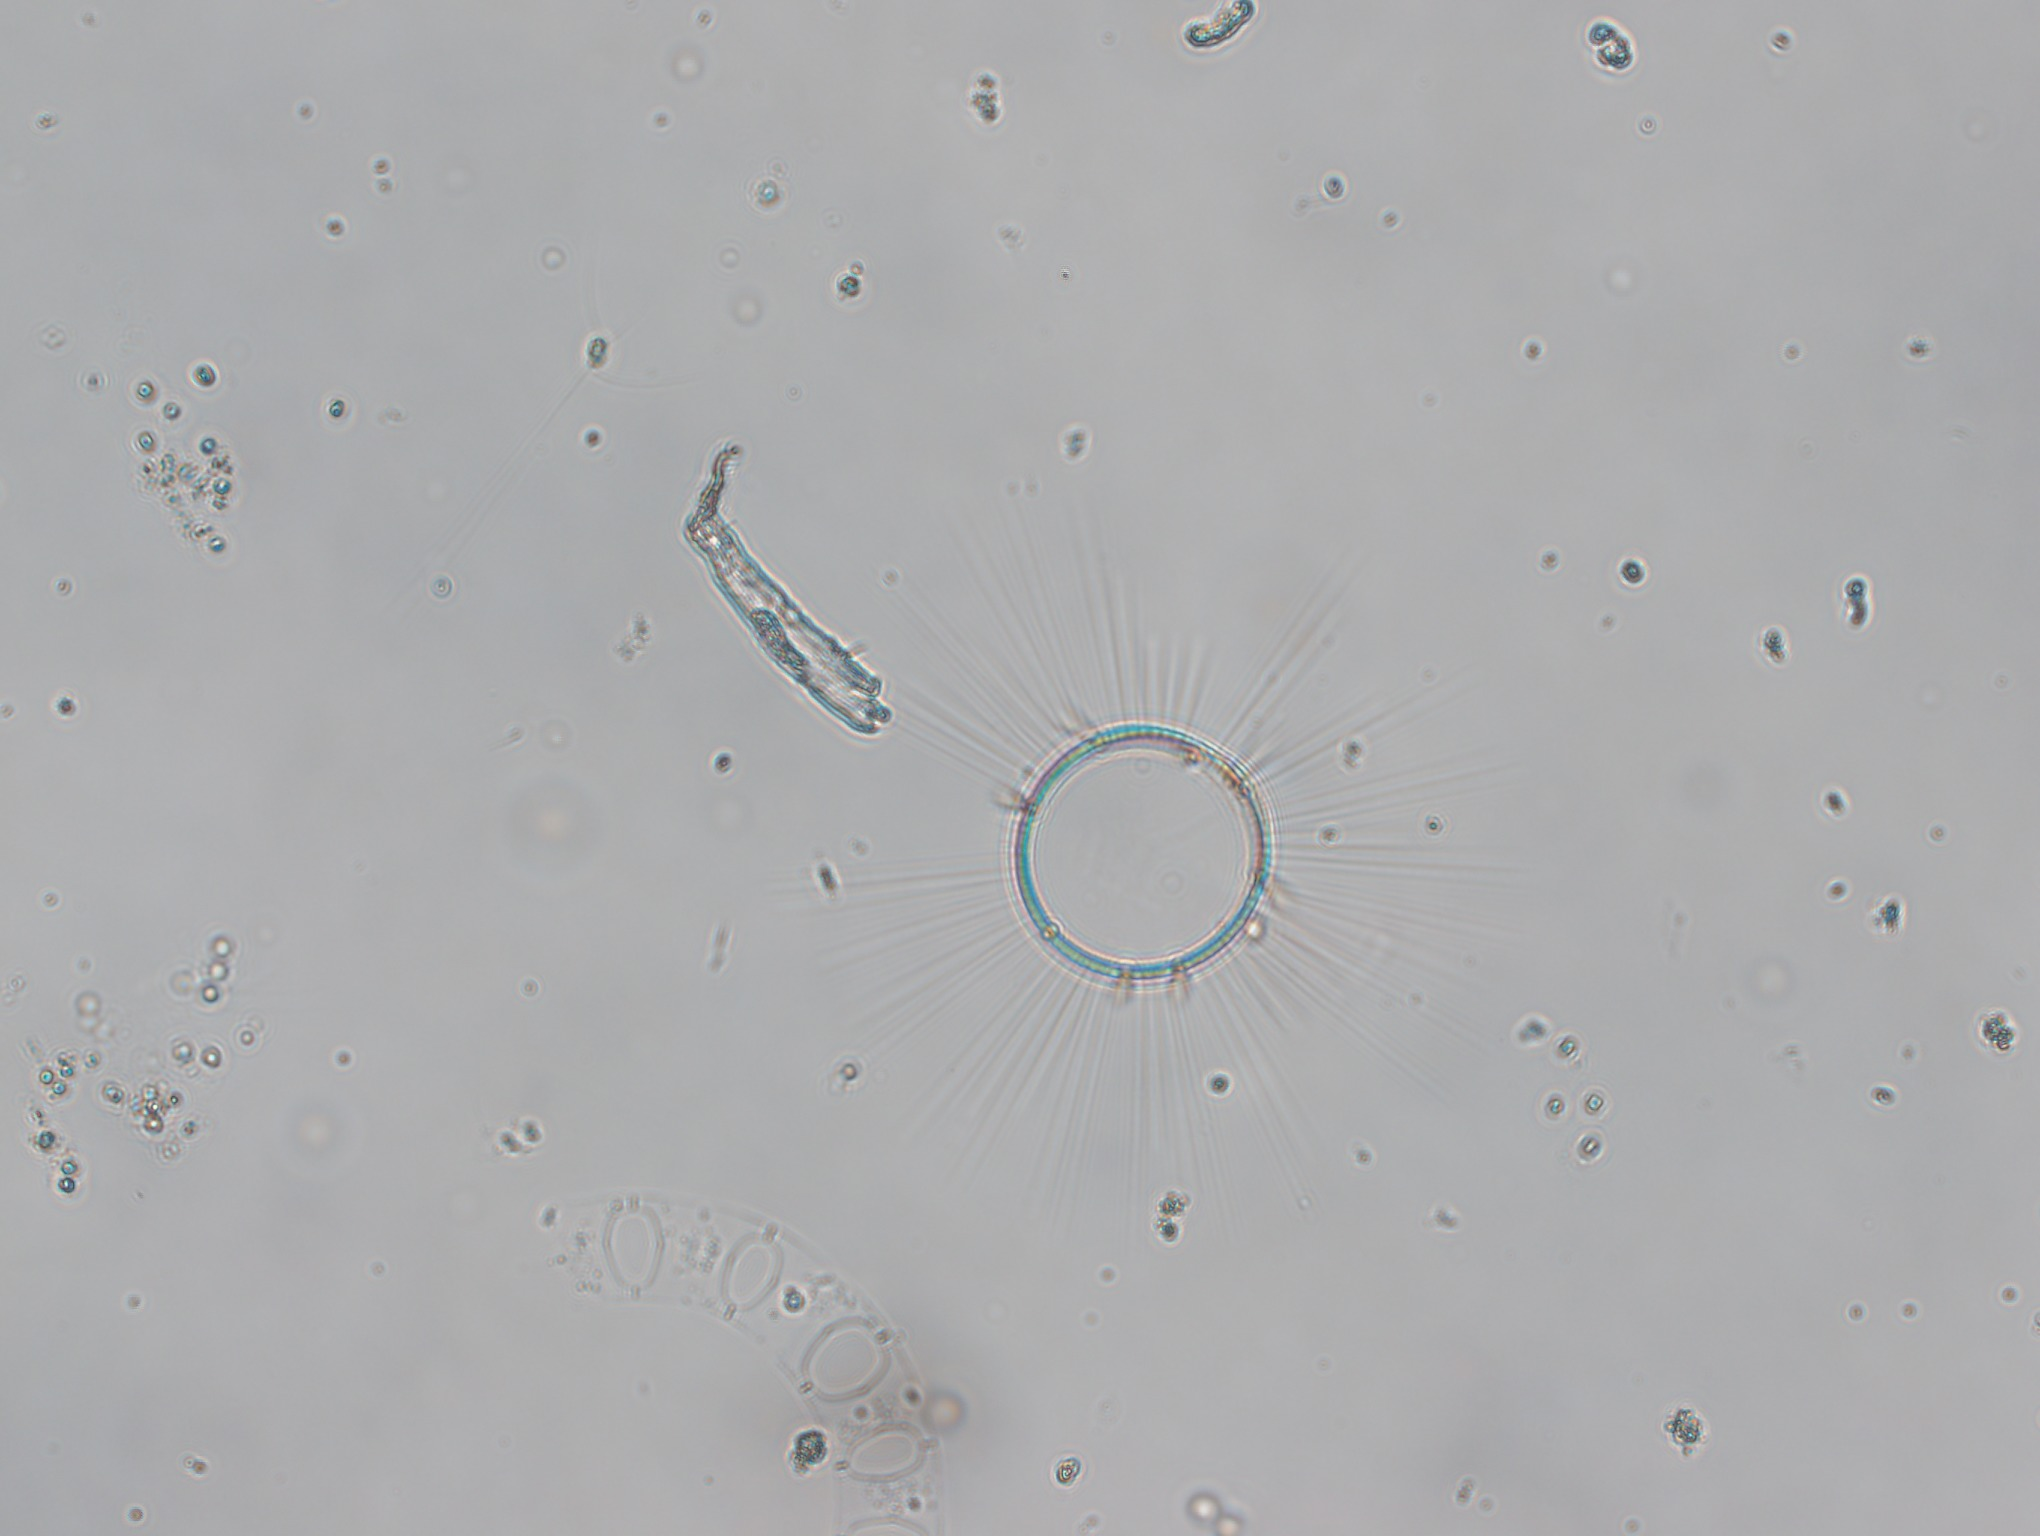corethron: (760, 495, 1511, 1189)
eucampia: (531, 1191, 947, 1536)
